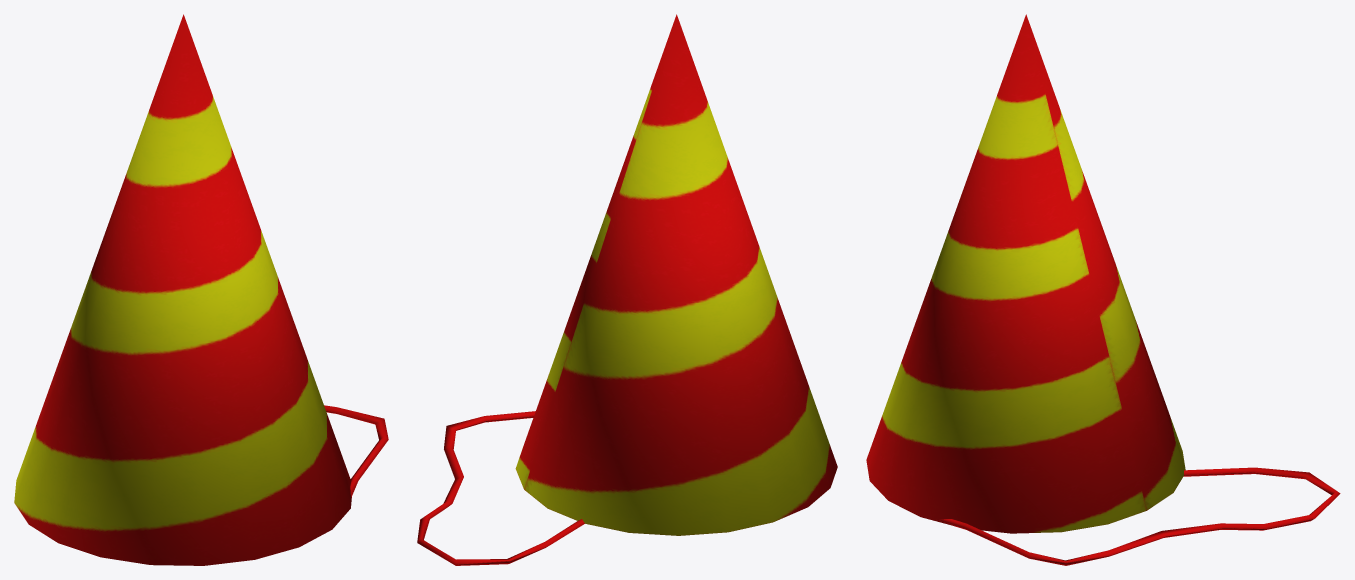
File: partyhat5_reference_006.fbx
3 views of the same model, side by side, from view 1: azimuth 30°, elevation 25°; view 2: azimuth 150°, elevation 25°; view 3: azimuth 270°, elevation 25° (orthographic). The views are drawn at different scales.
Visible parts, largest first — view 1: partyhat5_reference.006; view 2: partyhat5_reference.006; view 3: partyhat5_reference.006.
Boxes of the visible parts, x1,y1,x2,y2 form: partyhat5_reference.006: (14, 14, 388, 565); partyhat5_reference.006: (417, 14, 837, 565); partyhat5_reference.006: (866, 14, 1340, 565).
Size of the model in its own units: 31.59 by 39.53 by 37.32.
